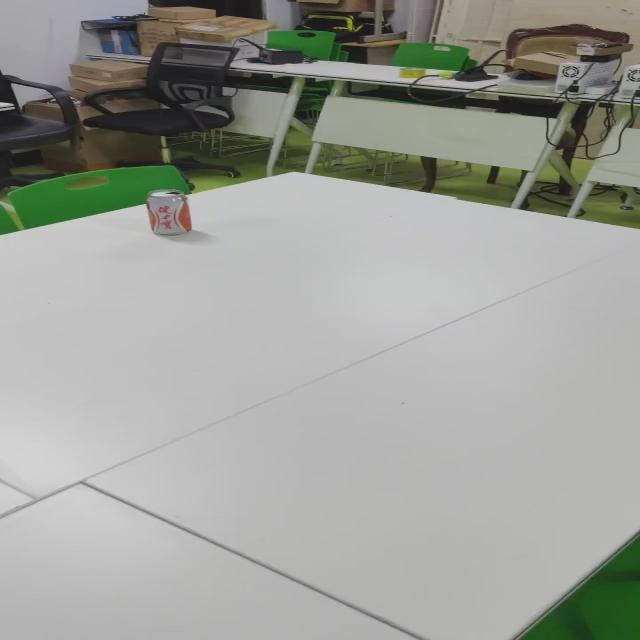can: (144, 190, 194, 237)
